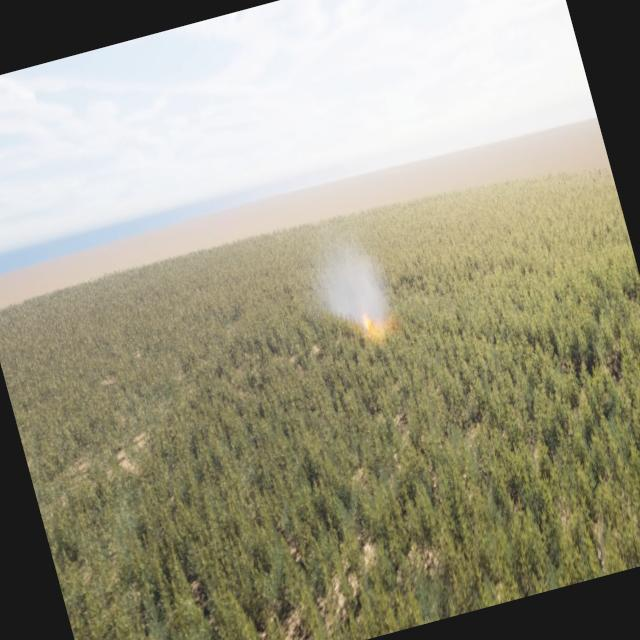fire: (358, 304, 387, 334)
smoke: (304, 234, 398, 343)
